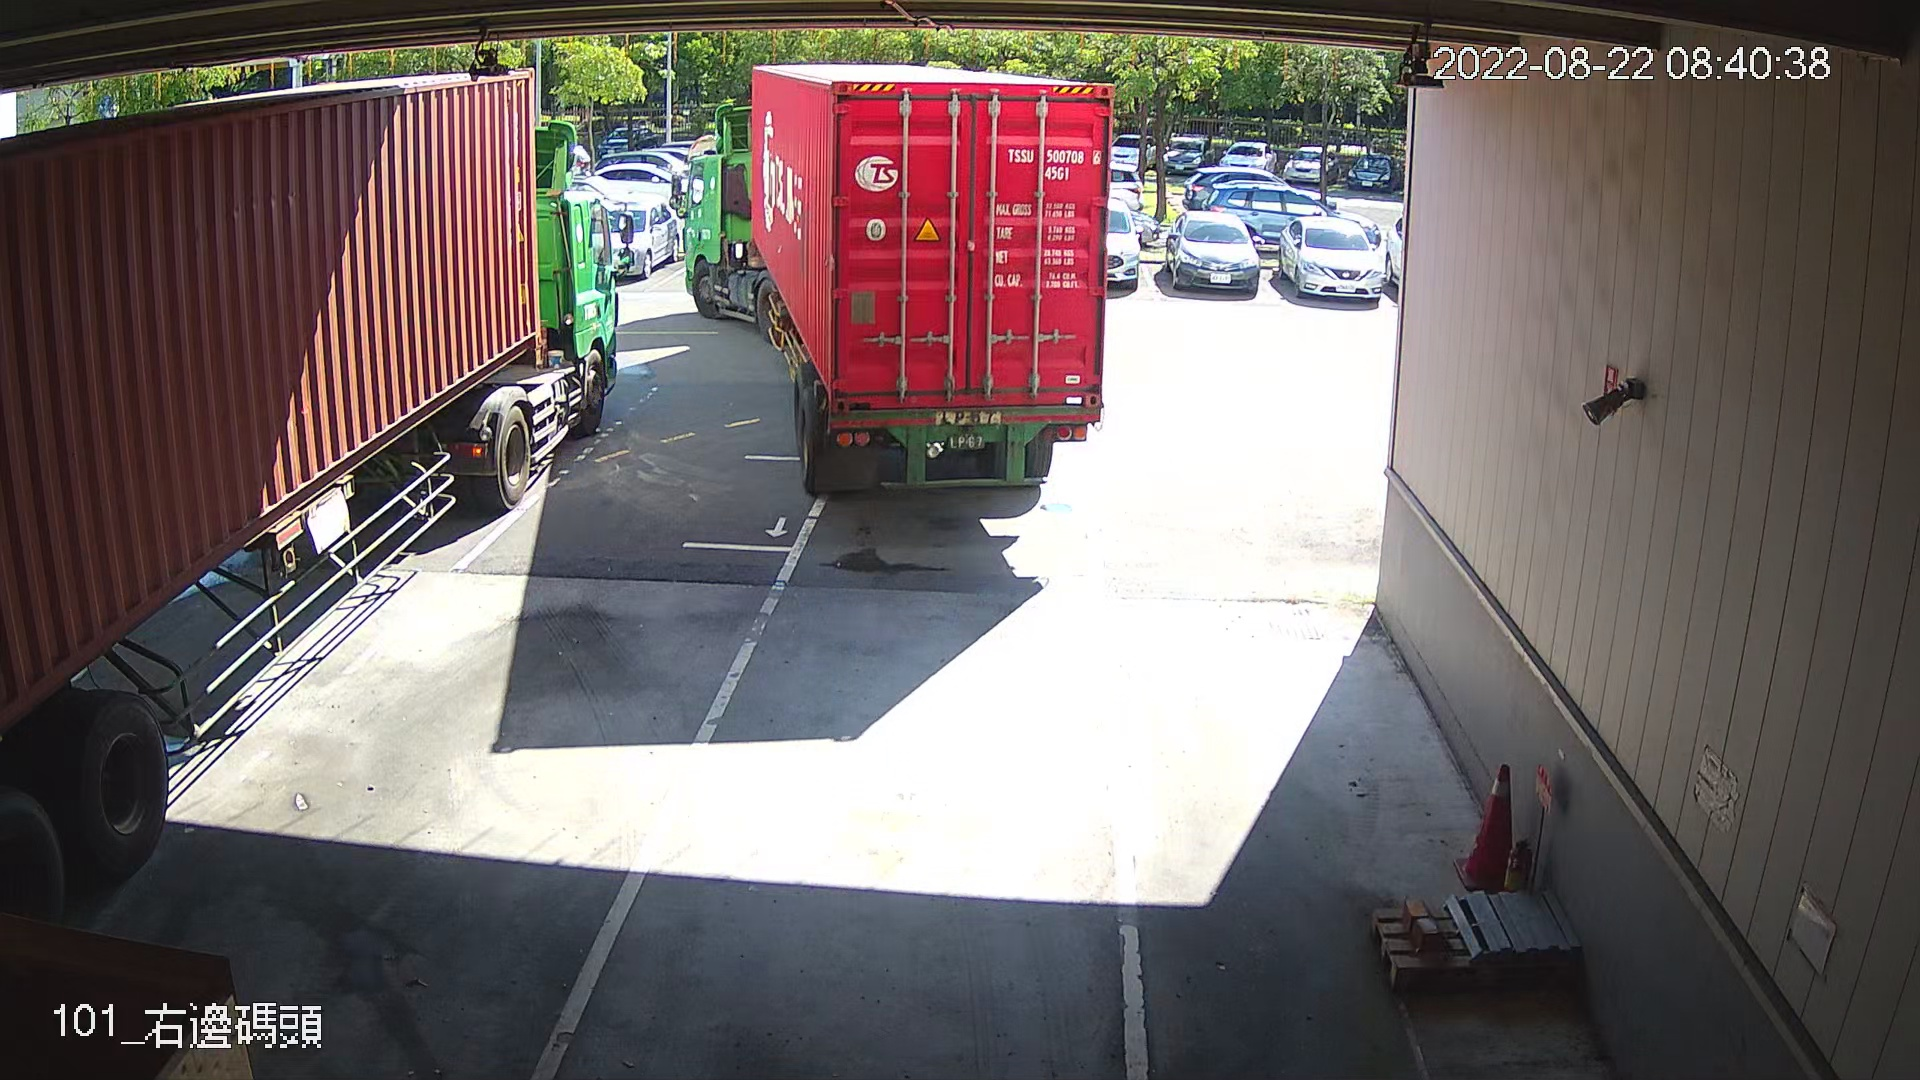container: (998, 138, 1104, 186)
